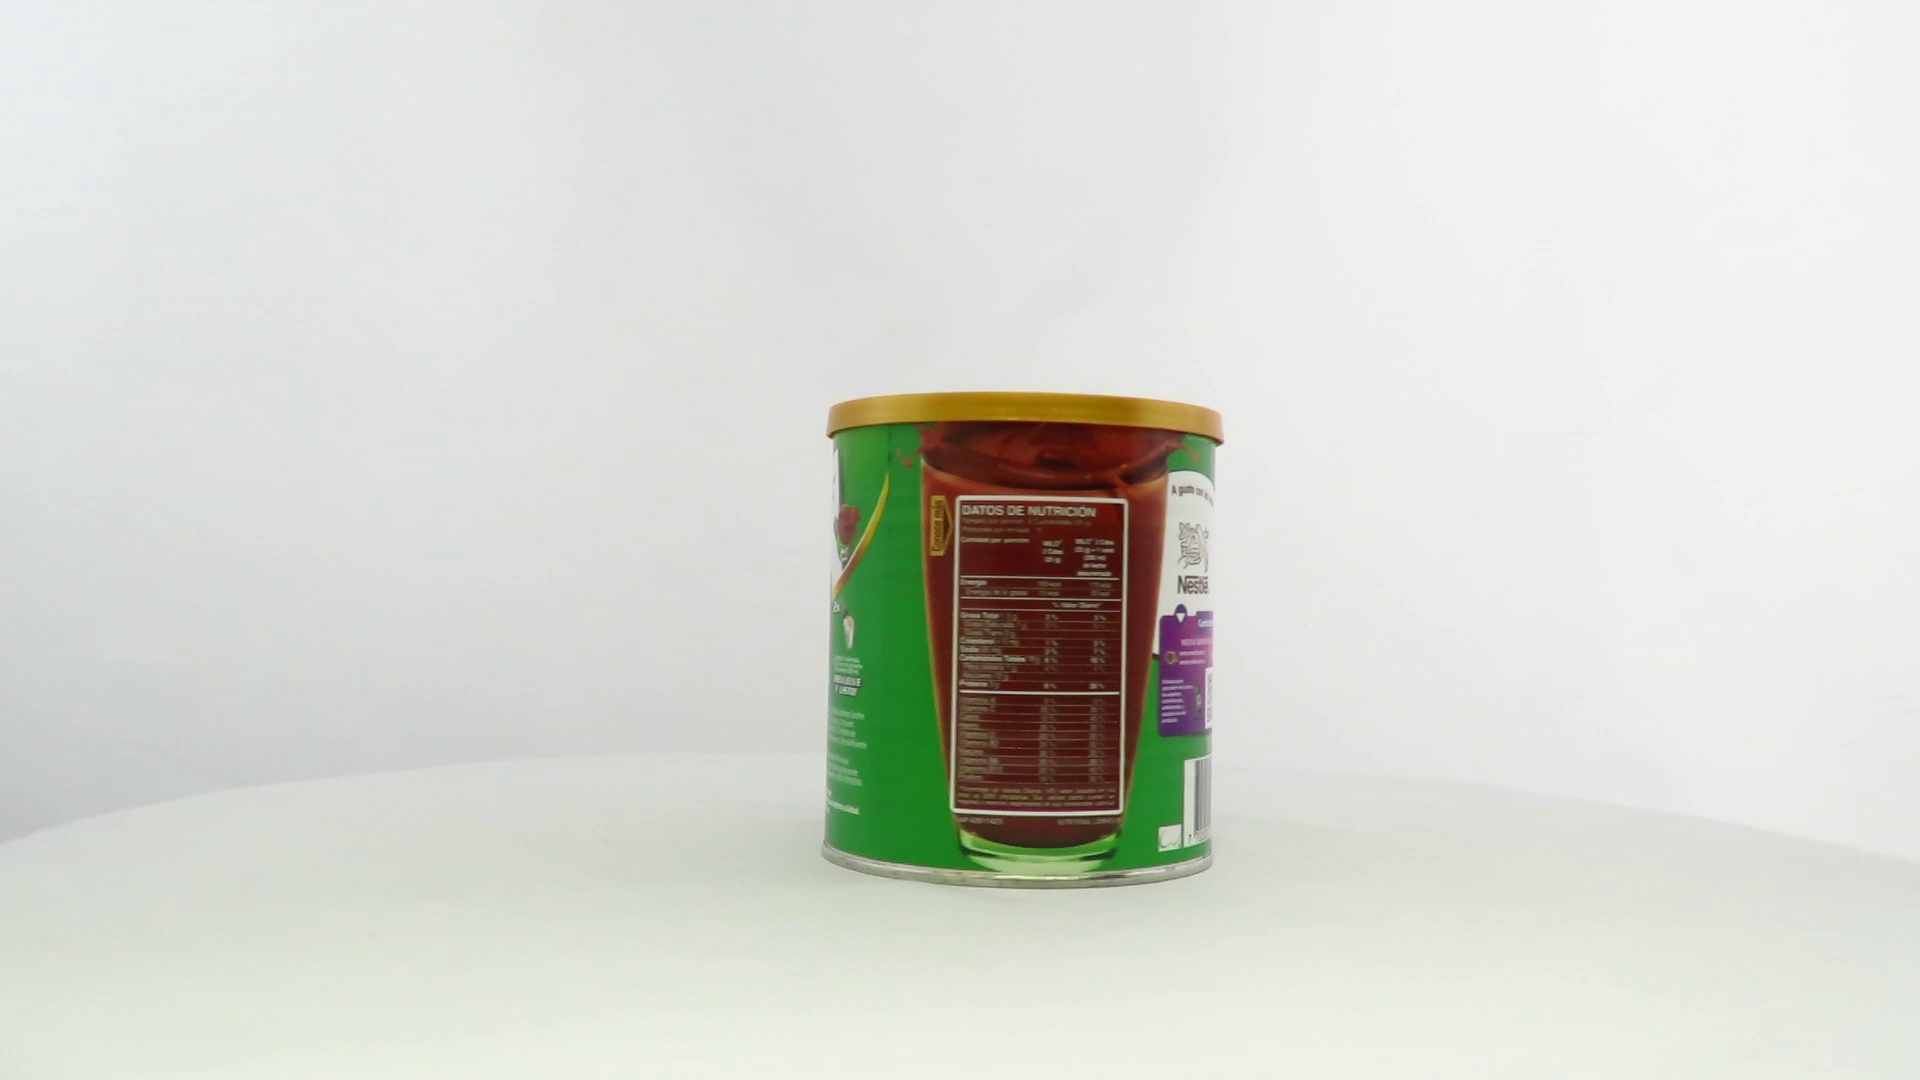COL0170203LAT40000: (816, 386, 1230, 895)
